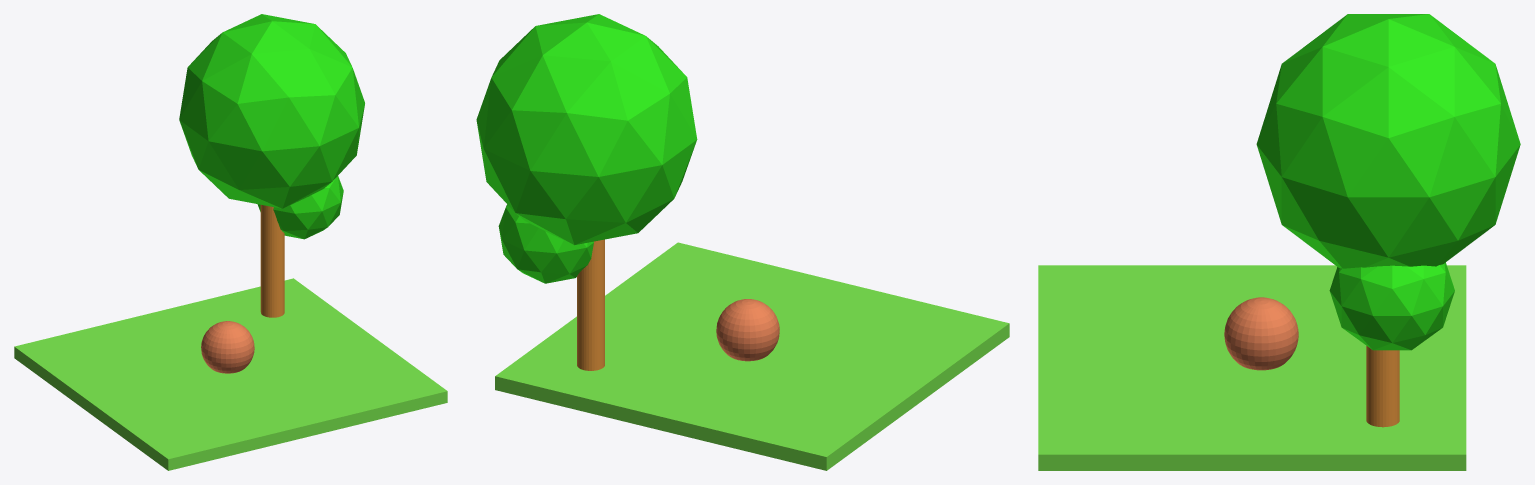
Rendered from tree.glb.
3 views of the same model, side by side, from view 1: azimuth 30°, elevation 25°; view 2: azimuth 150°, elevation 25°; view 3: azimuth 270°, elevation 25° (orthographic). The views are drawn at different scales.
Visible parts, largest first — view 1: Cube, LLarge, Cylinder, Lsmall, Sphere; view 2: Cube, LLarge, Lsmall, Cylinder, Sphere; view 3: Cube, LLarge, Lsmall, Sphere, Cylinder.
Part boxes in pixels (left/top/right/bottom): Cube: left=14, top=278, right=447, bottom=470; LLarge: left=179, top=14, right=364, bottom=208; Cylinder: left=260, top=205, right=284, bottom=317; Lsmall: left=257, top=176, right=343, bottom=239; Sphere: left=201, top=321, right=254, bottom=373; Cube: left=495, top=242, right=1009, bottom=470; LLarge: left=476, top=14, right=697, bottom=245; Lsmall: left=498, top=204, right=593, bottom=283; Cylinder: left=577, top=239, right=604, bottom=370; Sphere: left=716, top=299, right=779, bottom=361; Cube: left=1038, top=265, right=1466, bottom=470; LLarge: left=1256, top=14, right=1520, bottom=268; Lsmall: left=1329, top=262, right=1454, bottom=350; Sphere: left=1224, top=297, right=1298, bottom=370; Cylinder: left=1366, top=346, right=1399, bottom=427.
Bounding box in the file's own units: 13.27 × 12.39 × 12.94.
